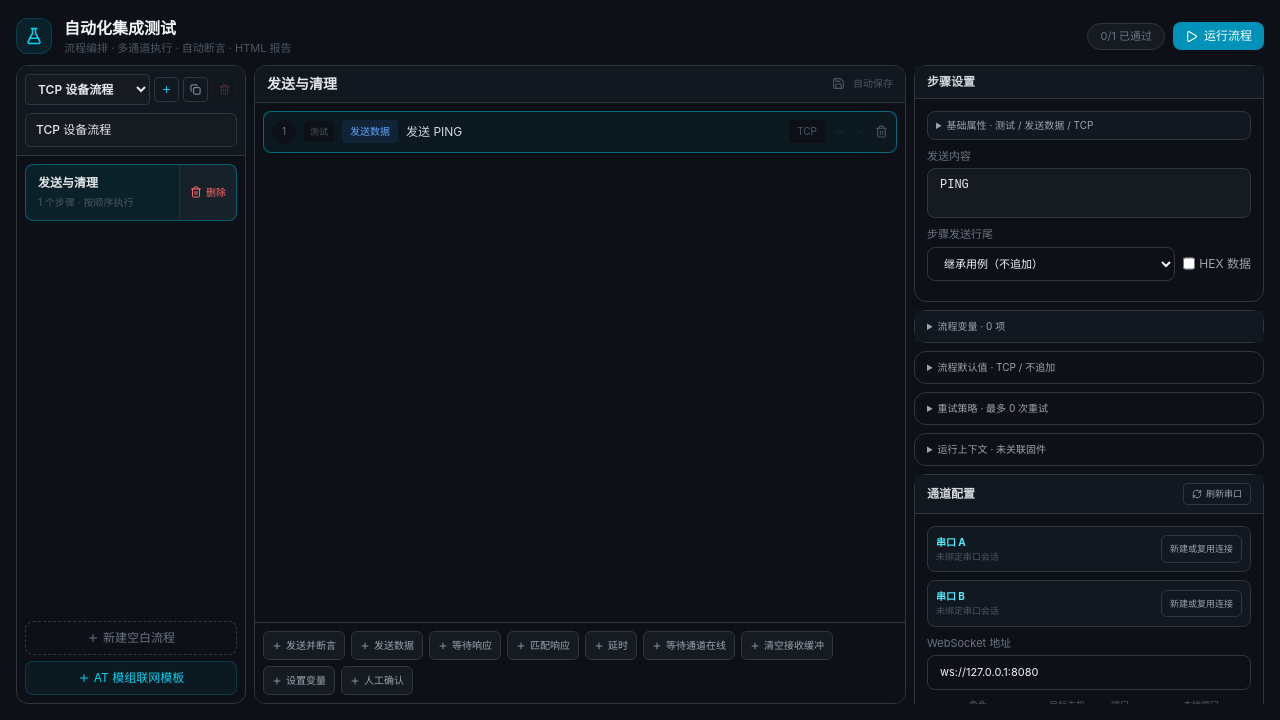
it: TestAutomationPage centralized Agent workflow › keeps secondary step and flow settings collapsed until requested
The width and height of the screenshot is (1280, 720).
Expected: the dropdown labelled "步骤发送行尾" is shown, left=927, top=246, right=1174, bottom=280
Expected: the field labelled "步骤名称" is not shown
Click the heading "基础属性 · 测试 / 发送数据 / TCP" at (1020, 124), box left=947, top=118, right=1093, bottom=130
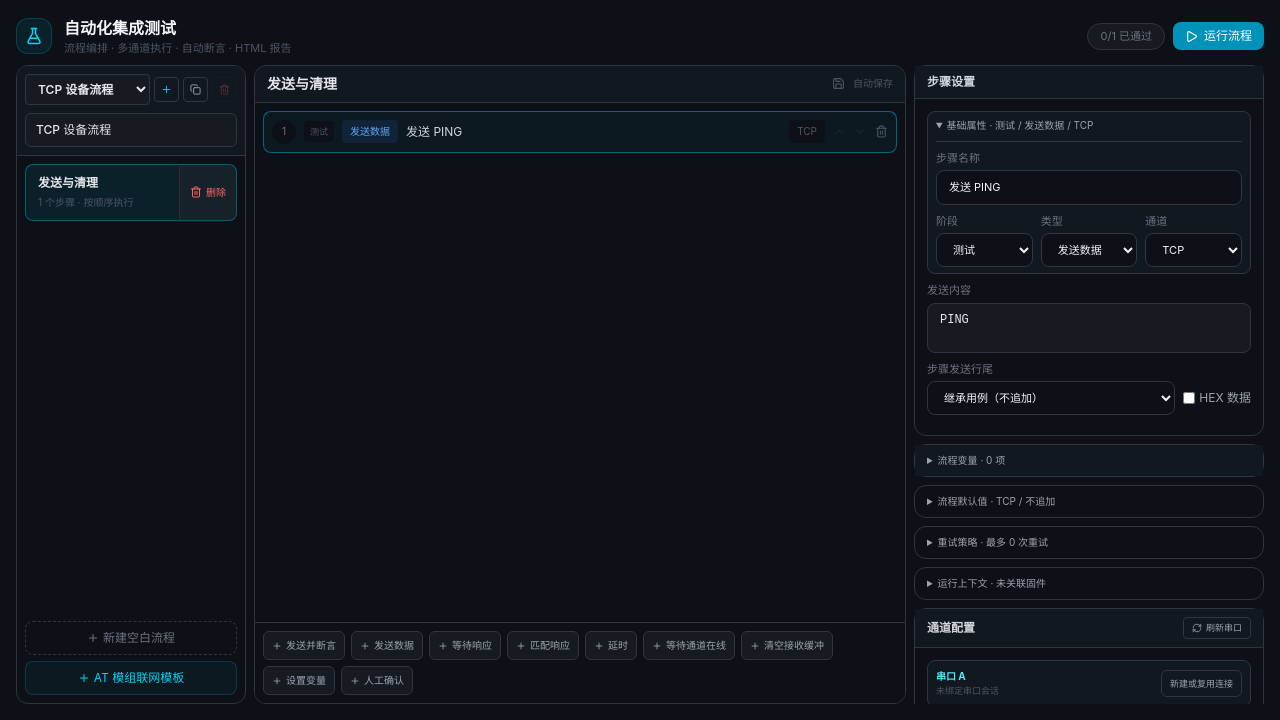
Expected: the field labelled "步骤名称" is shown, left=936, top=170, right=1242, bottom=204
Expected: the field labelled "默认发送行尾" is not shown
Click the heading "流程默认值 · TCP / 不追加" at (996, 501), box left=938, top=495, right=1055, bottom=507
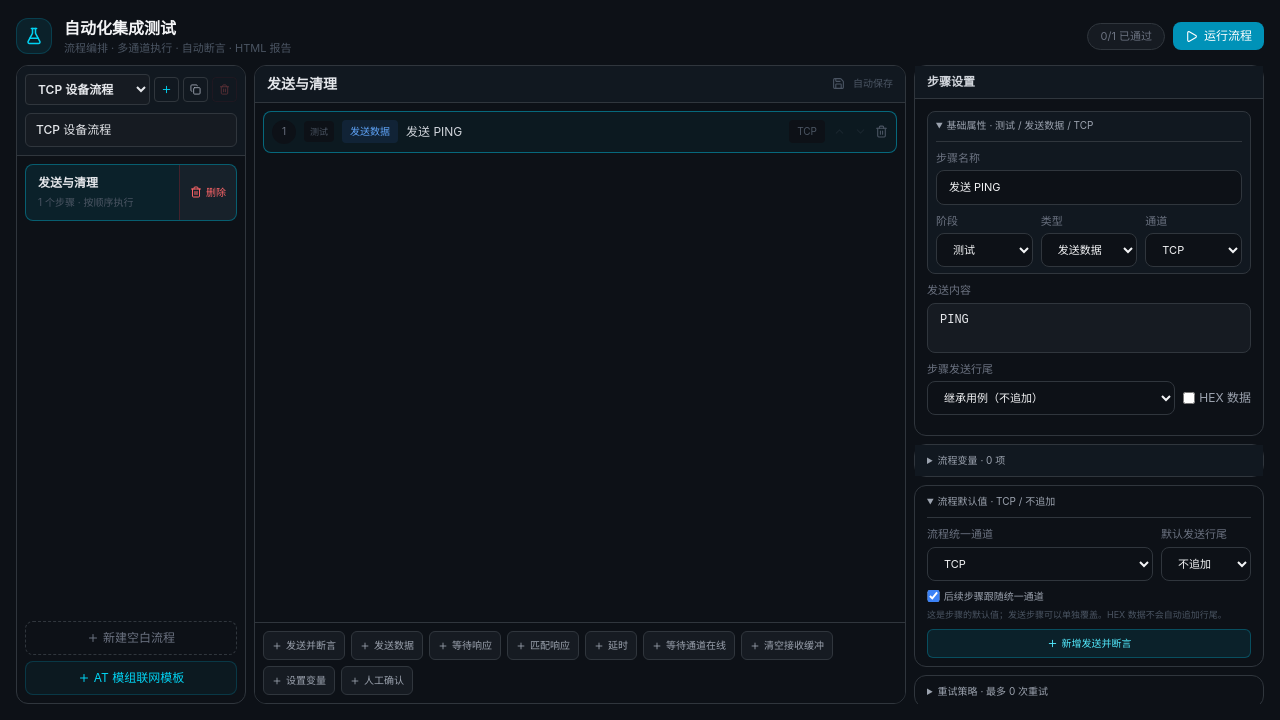
Result: the dropdown labelled "默认发送行尾" is shown at left=1161, top=546, right=1251, bottom=580
